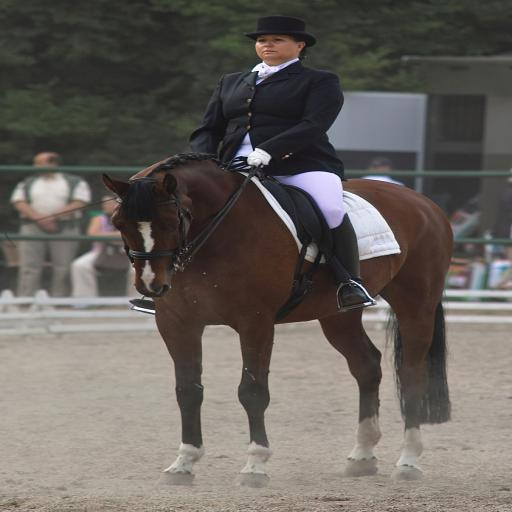Horse: (100, 154, 454, 490)
